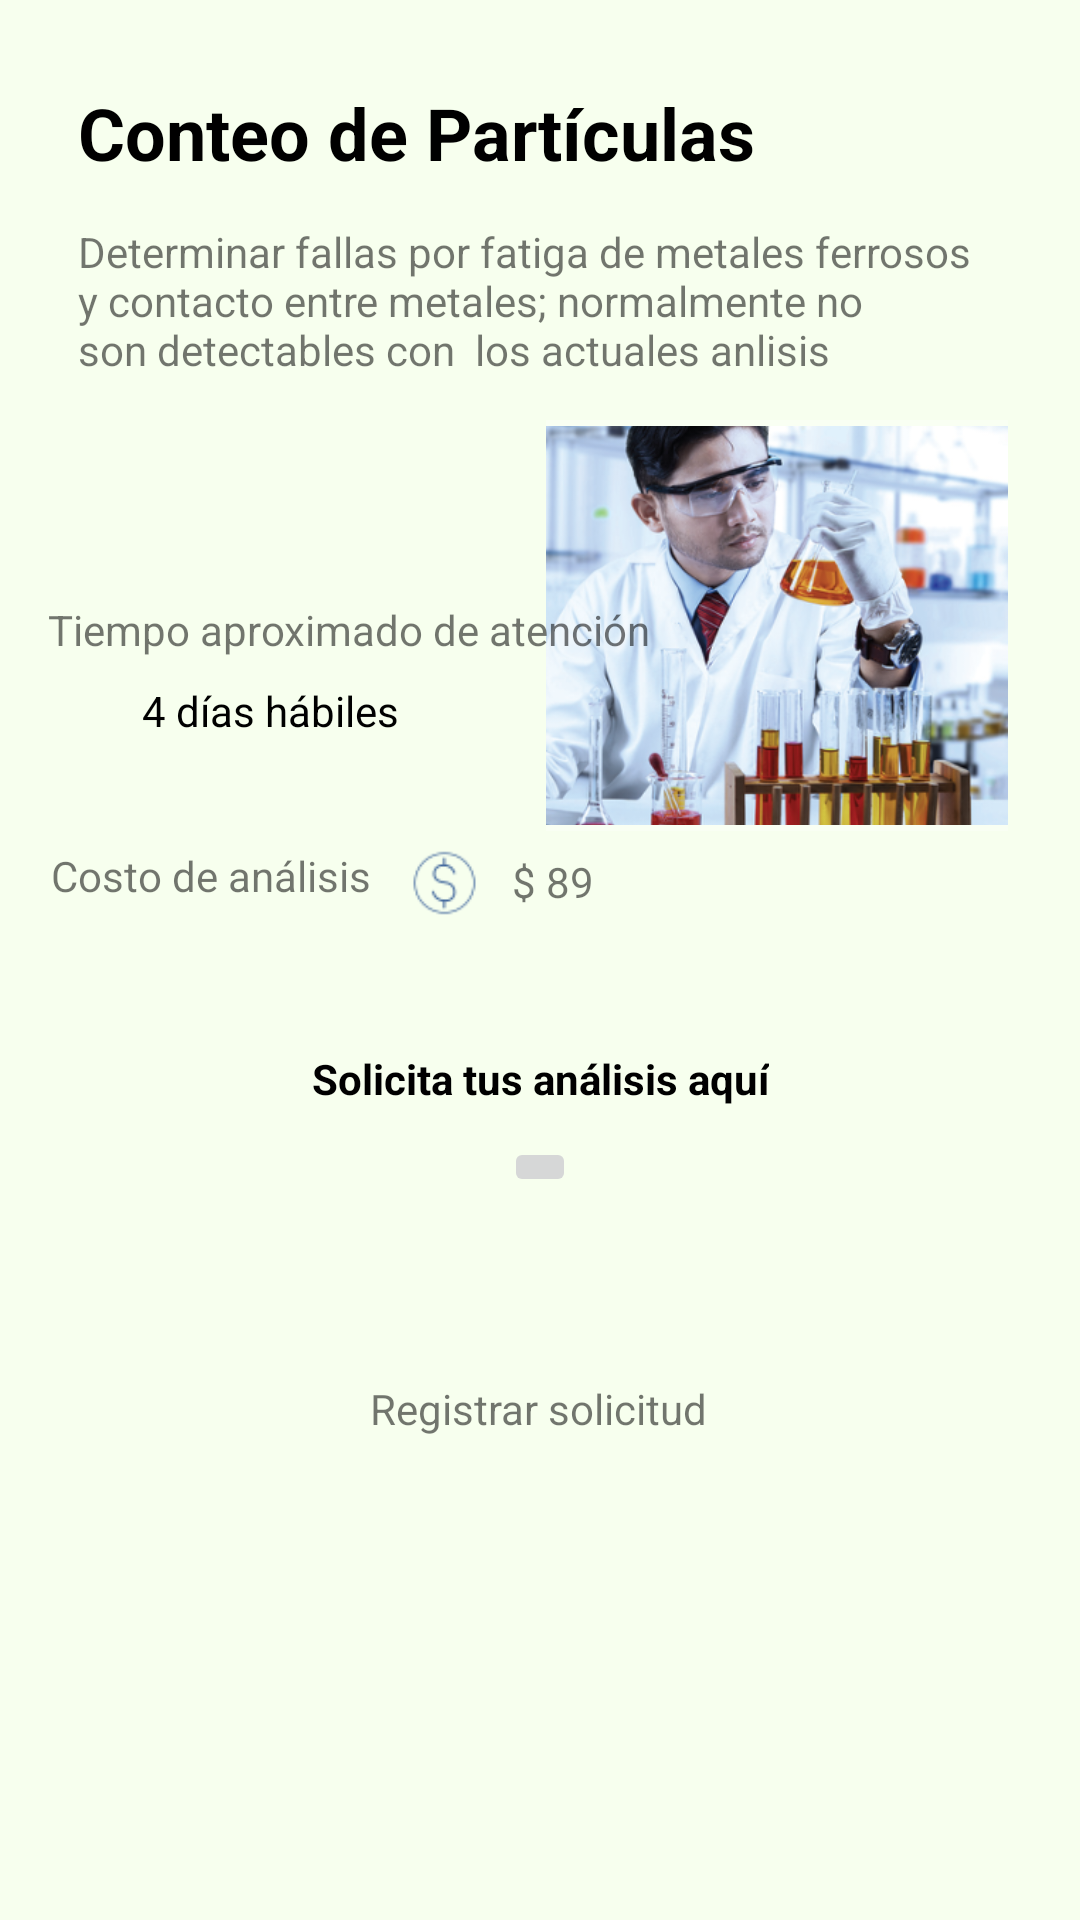

Icon click points for this 1080*1920 phone screenshot, format (x,y):
precio: (444,883)
